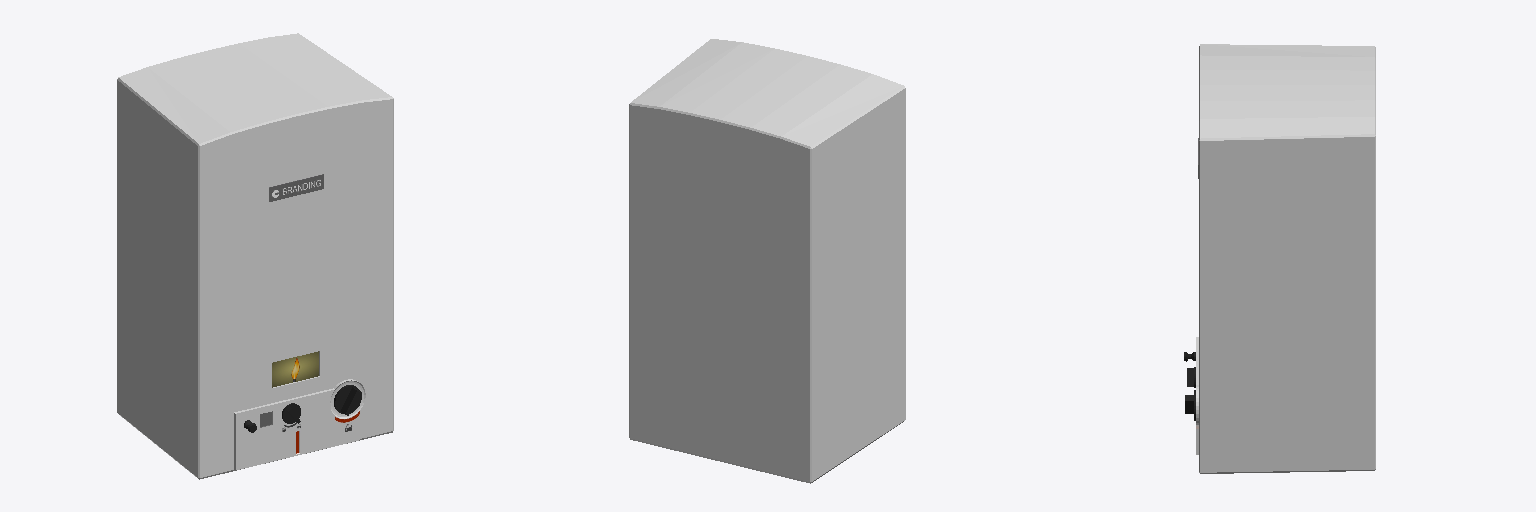
The picture shows the model from 3 angles: view 1: azimuth 30°, elevation 25°; view 2: azimuth 150°, elevation 25°; view 3: azimuth 270°, elevation 25°; orthographic projection.
Parts seen in each view (by area): view 1: Cube, Cube.001, Cube.002, Cube.003; view 2: Cube; view 3: Cube.
Boxes of the visible parts, x1=… form: Cube: x1=117, y1=33, x2=393, y2=479; Cube.001: x1=234, y1=379, x2=365, y2=470; Cube.002: x1=269, y1=174, x2=323, y2=201; Cube.003: x1=334, y1=385, x2=361, y2=415; Cube: x1=629, y1=39, x2=905, y2=483; Cube: x1=1199, y1=44, x2=1375, y2=473.
Bounding box in the file's own units: 40.49 × 67.63 × 34.47.
Materials: 6 (1 with a texture image).